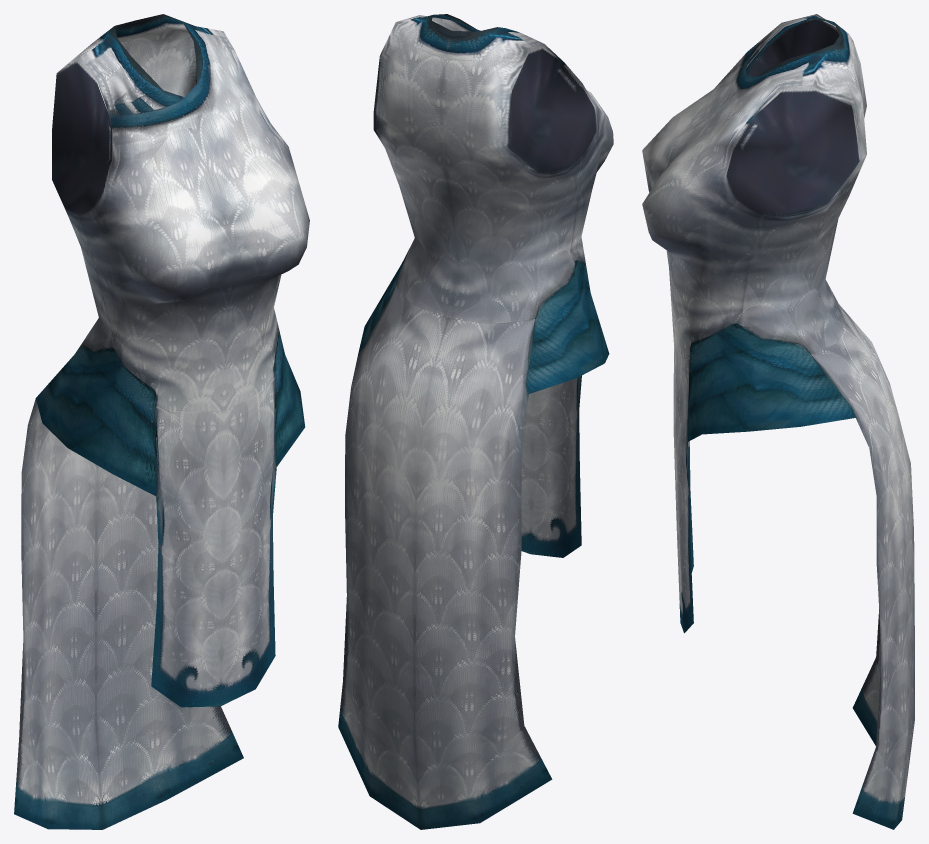
3 renders of one model, left to right at view 1: azimuth 30°, elevation 25°; view 2: azimuth 150°, elevation 25°; view 3: azimuth 270°, elevation 25°, orthographic. The views are drawn at different scales.
Bounding box in the file's own units: 0.5825 × 2 × 0.628.
Materials: 1 (1 with a texture image).
